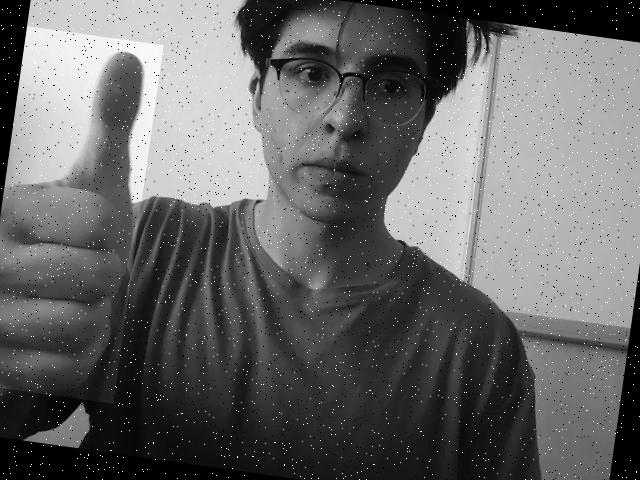good: (0, 26, 163, 404)
